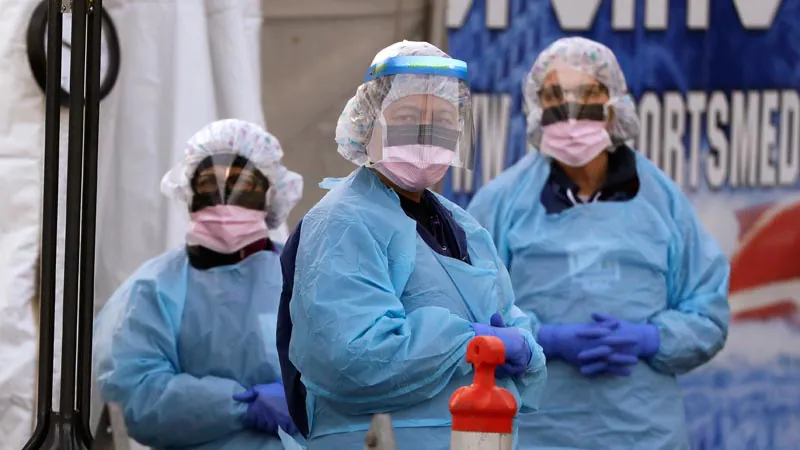Coverall: (509, 158, 715, 450), (295, 173, 468, 450), (105, 254, 284, 450)
Gloves: (542, 315, 658, 382), (239, 381, 294, 440)
with_mask: (540, 76, 620, 168), (381, 108, 460, 185), (193, 173, 264, 252)
